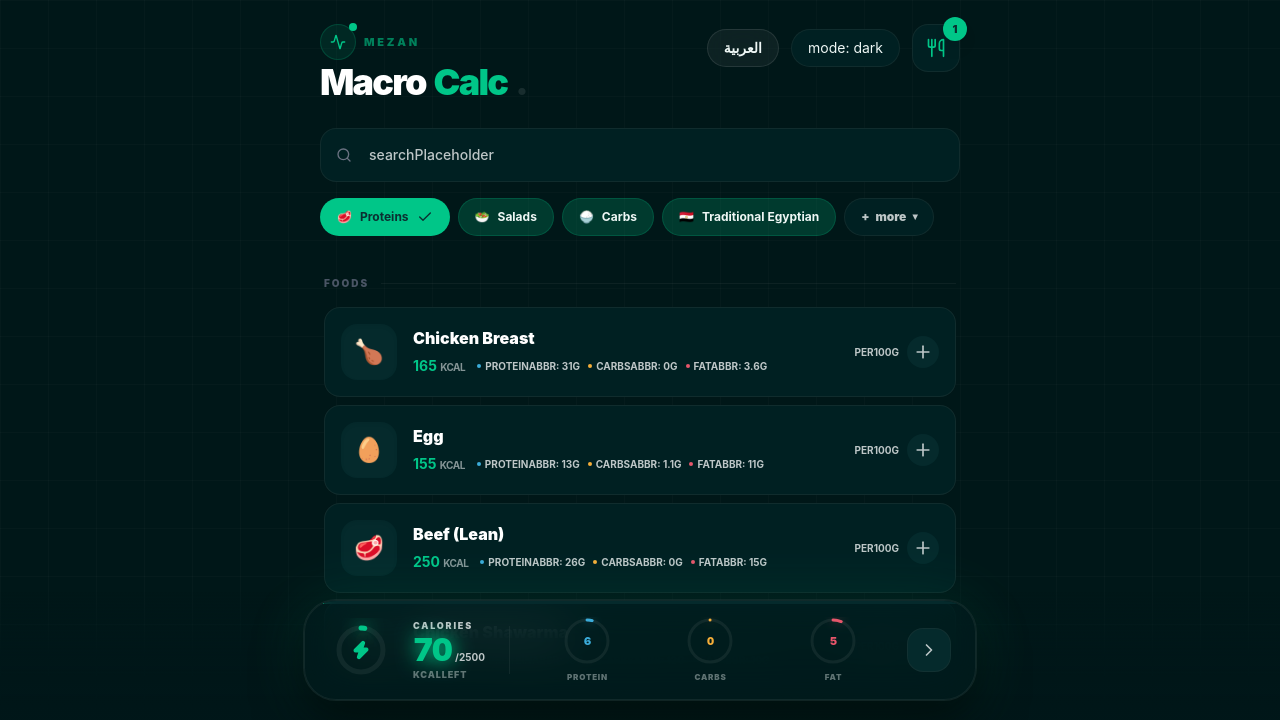
Asynchronous & Promises › findByText: Waits for the Result Modal to appear
This screenshot has width=1280, height=720.
Click the calculate button
Click the button with aria-label "Calculate" at (640, 602), box [304,600,976,700]
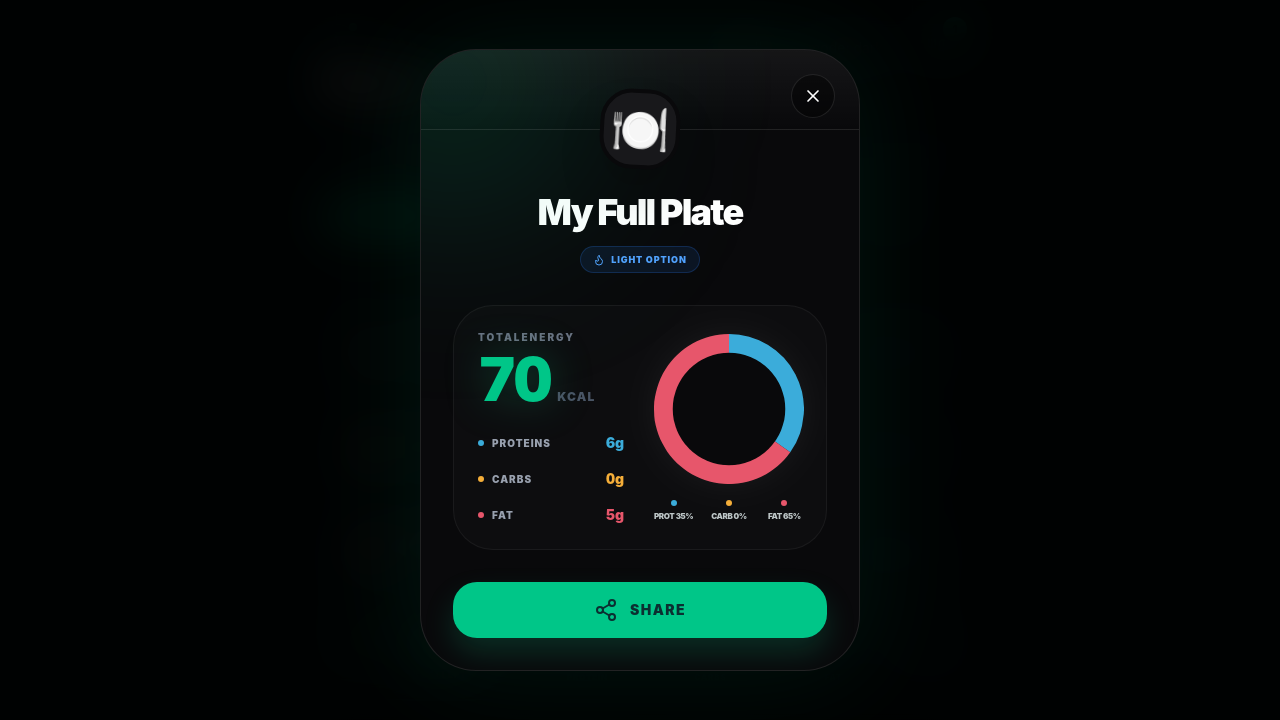
expect the heading "My Full Plate" is shown: met, box [538,190,742,234]
